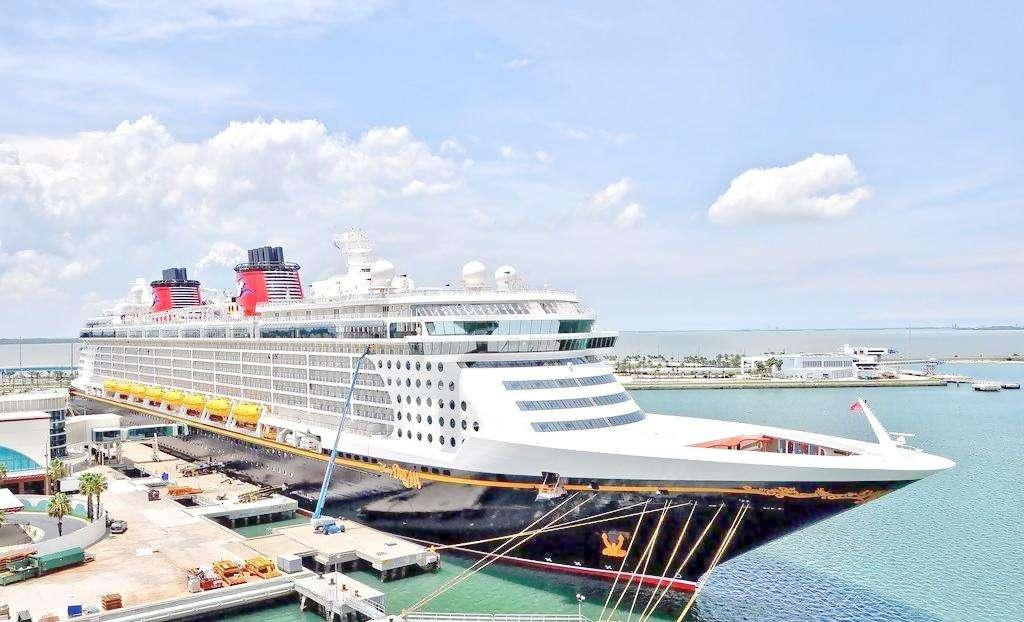youlun: (74, 246, 958, 583)
